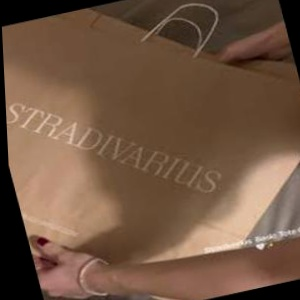stradivarius: (230, 129, 237, 219)
